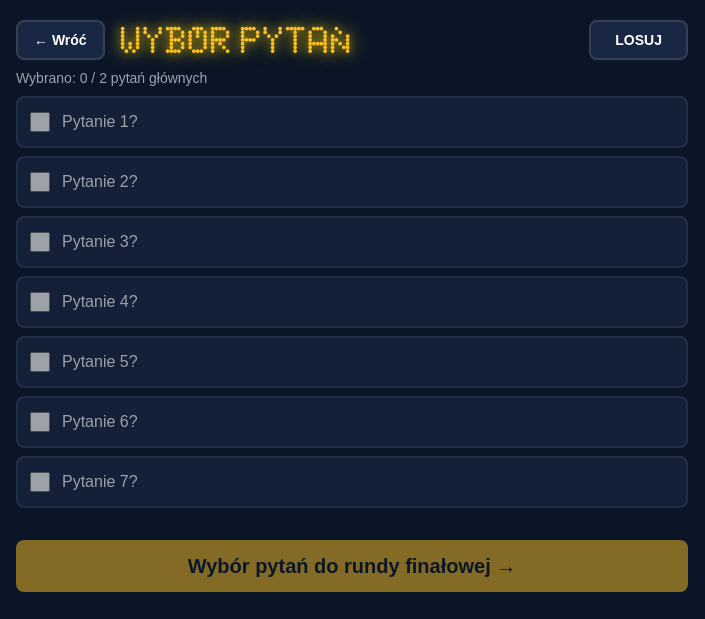
Test: QuestionSelectionScreen › should select question, show order number, update counter, and enable confirm button
Click the checkbox next to "Pytanie 1?": (40, 122) top-left (30, 112), bottom-right (50, 132)
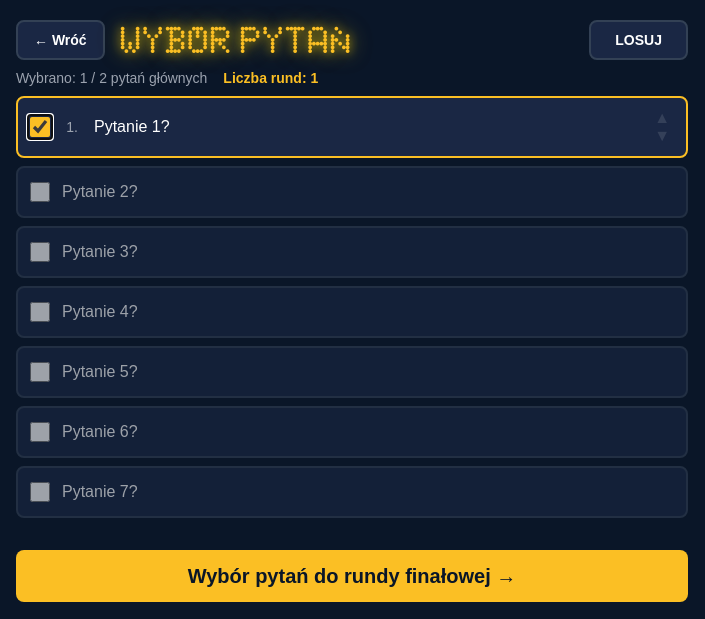
expect the text "Wybrano: 1 / 2 pytań głównych" is shown: met, box top-left (16, 68), bottom-right (207, 88)
expect the text "1." is shown: met, box top-left (66, 119), bottom-right (78, 135)
expect the button "Wybór pytań do rundy finałowej →" is enabled: met, box top-left (16, 550), bottom-right (688, 602)
